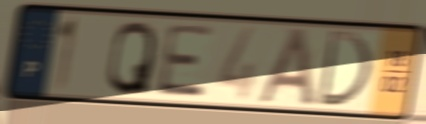1: (52, 14, 86, 97)
4: (214, 24, 260, 104)
A: (255, 25, 319, 108)
D: (314, 28, 375, 111)
E: (154, 22, 218, 101)
Q: (104, 18, 159, 98)
